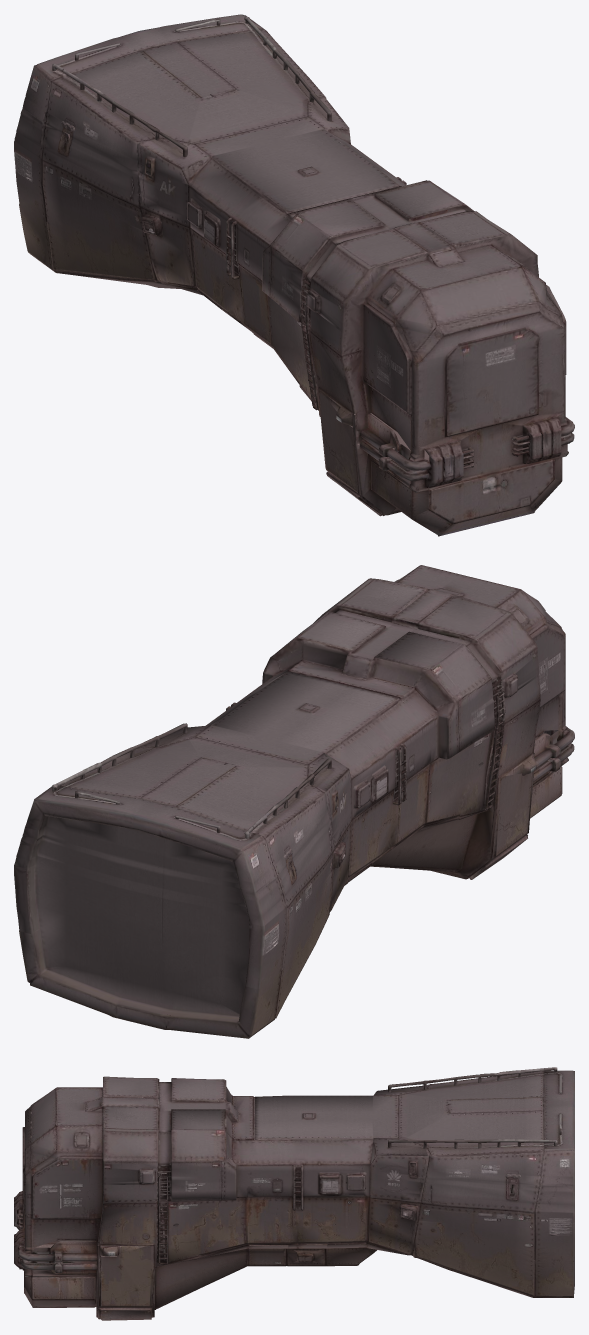
Rendered from spacecraft_3d_model.fbx.
3 renders of one model, top to bottom at view 1: azimuth 30°, elevation 25°; view 2: azimuth 150°, elevation 25°; view 3: azimuth 270°, elevation 25°, orthographic. The views are drawn at different scales.
Visible parts, largest first — view 1: tripo_node_98c5ab91; view 2: tripo_node_98c5ab91; view 3: tripo_node_98c5ab91.
Boxes of the visible parts, <box> form: tripo_node_98c5ab91: <box>14,14,574,536</box>; tripo_node_98c5ab91: <box>14,565,574,1038</box>; tripo_node_98c5ab91: <box>14,1067,574,1320</box>.
Bounding box in the file's own units: 0.3929 × 0.3776 × 0.9775.
